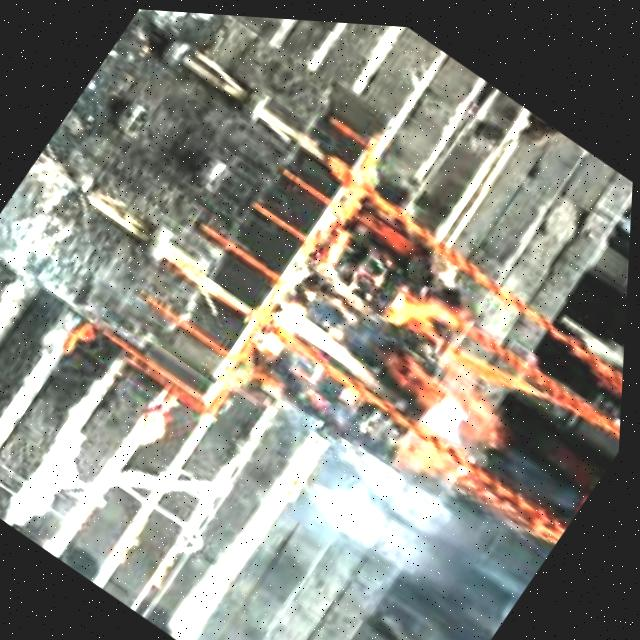Fire: (264, 215, 555, 467)
